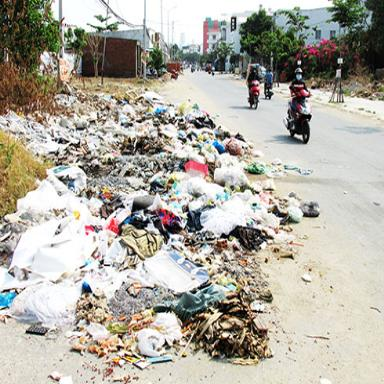plasticbag: (111, 244, 208, 363), (6, 207, 91, 326), (188, 142, 266, 228), (72, 87, 134, 152), (298, 193, 320, 220)
